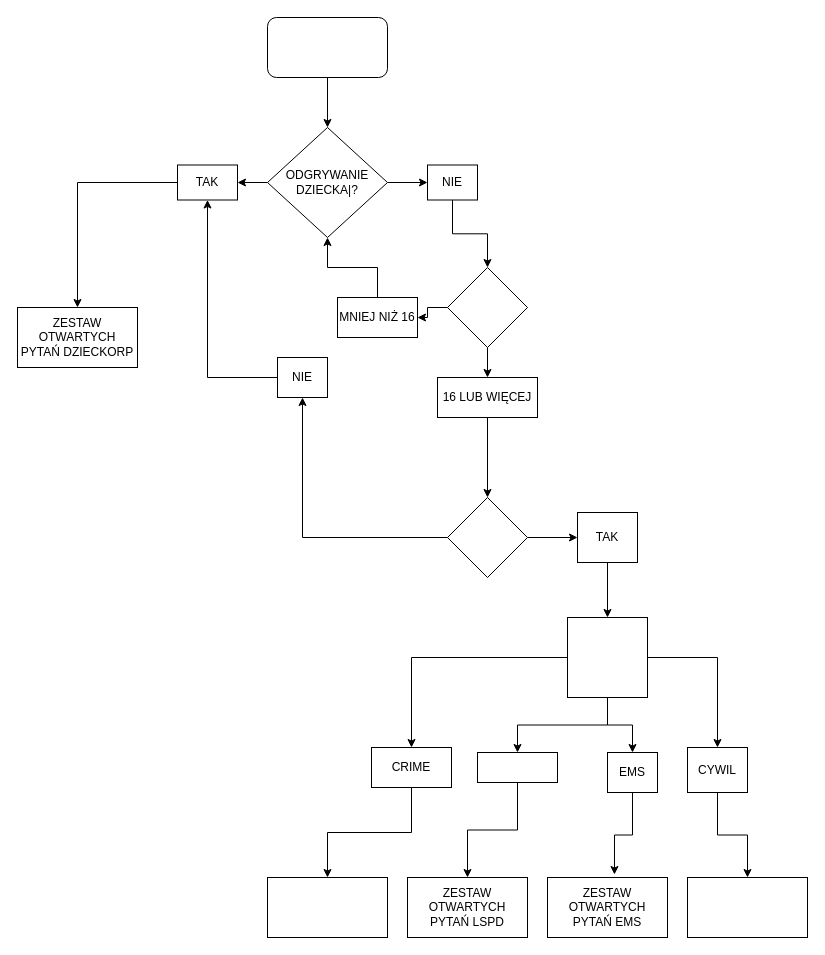
Some shapes in this 825 by 955 pixel diagram are drawn without their labels. The shapes that lost their labels are listed below. From the top down, each one's box as (x1, y1, x2, y2) in pixels, then its label:
(266, 16, 388, 78): DROGA DO WHITELIST`Y NA PAPROTKARP
(446, 266, 528, 348): ILE MASZ LAT?
(446, 496, 528, 578): MUTACJA
(566, 616, 648, 698): CO BĘDZIE ODGRYWANE
(476, 752, 558, 782): LSPD
(266, 876, 388, 938): ZESTAW OTWARTYCH PYTAŃ CRIME
(686, 876, 808, 938): ZESTAW OTWARTYCH PYTAŃ CYWIL
